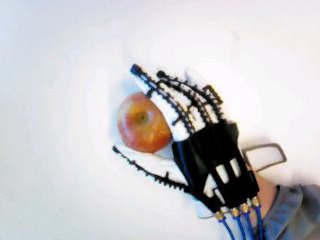apple: (116, 90, 172, 153)
hand: (109, 67, 260, 220)
